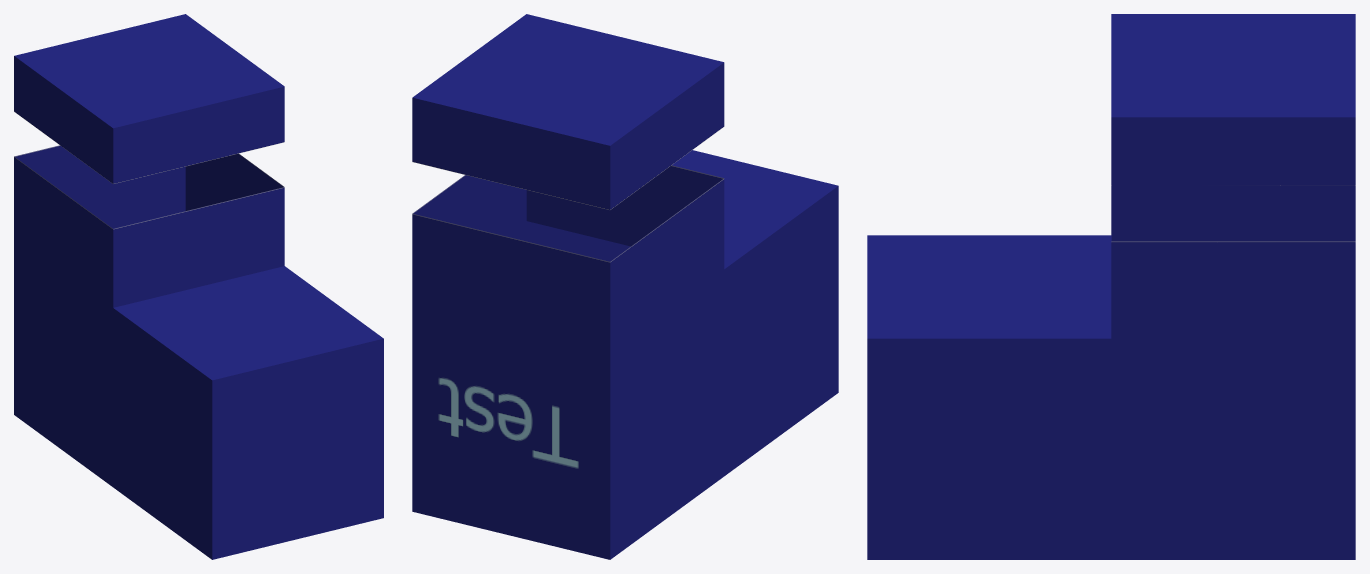
File: ModelCubeVA01.fbx
3 renders of one model, left to right at view 1: azimuth 30°, elevation 25°; view 2: azimuth 150°, elevation 25°; view 3: azimuth 270°, elevation 25°, orthographic. The views are drawn at different scales.
Parts seen in each view (by area): view 1: OpacityObject; view 2: OpacityObject; view 3: OpacityObject.
Part boxes in pixels (box(x1,y1,x2,y2)): OpacityObject: box(14, 14, 383, 559); OpacityObject: box(412, 14, 838, 559); OpacityObject: box(867, 14, 1355, 559).
Bounding box in the file's own units: 10 × 20 × 20.
1 material, 1 textured.
